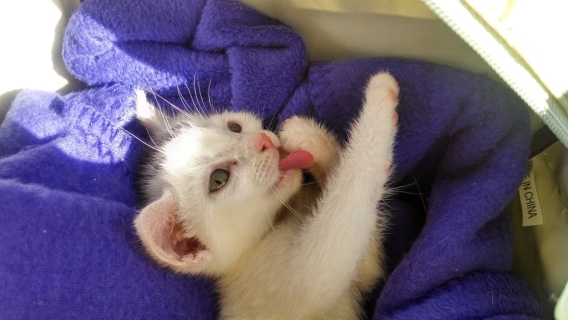Cat: (116, 65, 432, 320)
